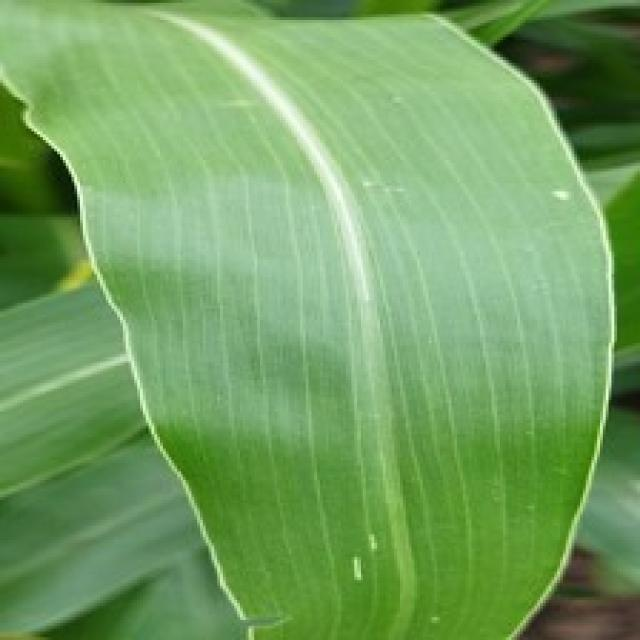Corn: (0, 0, 620, 637), (0, 269, 246, 637), (572, 134, 637, 603)
